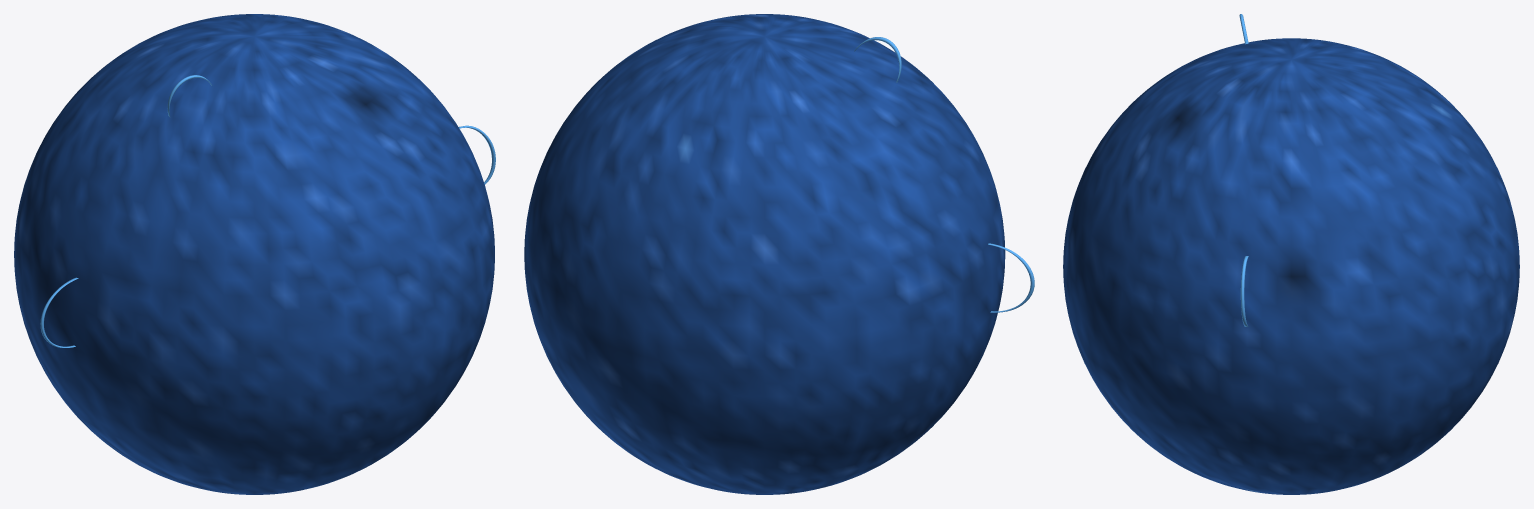
Rendered from Star_21.fbx.
3 renders of one model, left to right at view 1: azimuth 30°, elevation 25°; view 2: azimuth 150°, elevation 25°; view 3: azimuth 270°, elevation 25°, orthographic. The views are drawn at different scales.
Visible parts, largest first — view 1: Star_21; view 2: Star_21; view 3: Star_21.
Part boxes in pixels (<box>): Star_21: <box>14,14,495,494</box>; Star_21: <box>524,14,1034,494</box>; Star_21: <box>1063,14,1519,494</box>.
Bounding box in the file's own units: 219 × 201 × 200.
